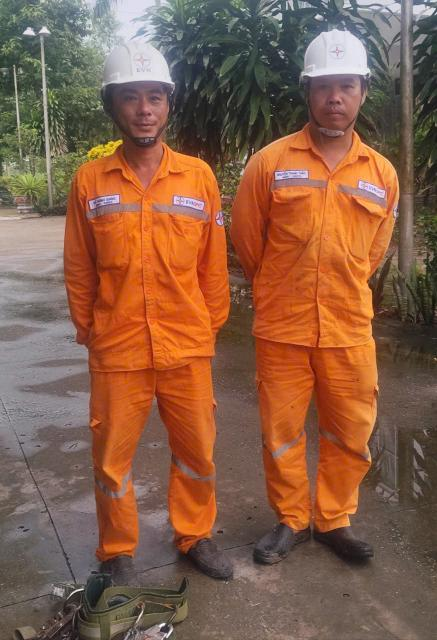helmet: (96, 11, 180, 105), (298, 23, 385, 84)
shoes: (179, 526, 255, 592), (307, 506, 386, 568), (79, 533, 147, 597), (250, 518, 311, 568)
